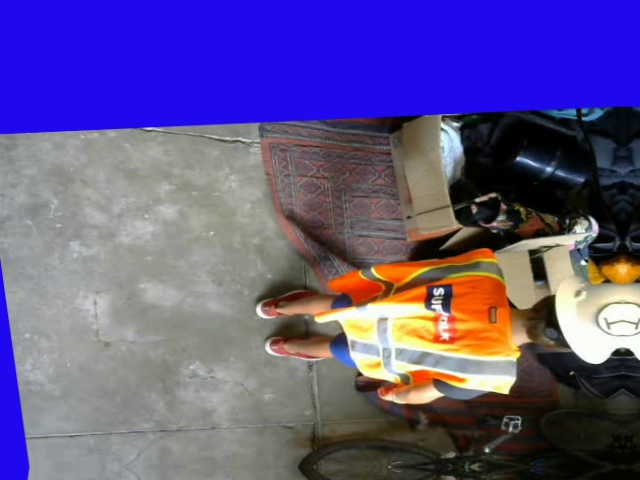one: (594, 301, 639, 336)
